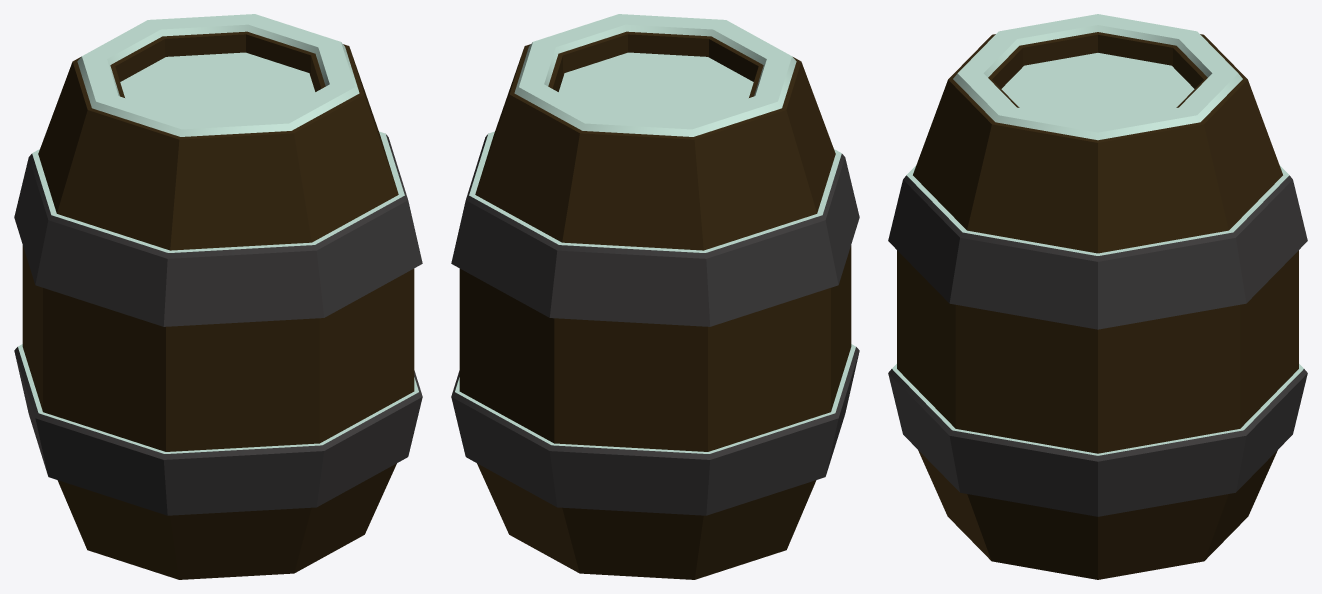
File: winter-barrel.glb
3 renders of one model, left to right at view 1: azimuth 30°, elevation 25°; view 2: azimuth 150°, elevation 25°; view 3: azimuth 270°, elevation 25°, orthographic.
Parts seen in each view (by area): view 1: WinterBarrel; view 2: WinterBarrel; view 3: WinterBarrel.
Boxes of the visible parts, box(x1,y1,x2,y2) form: WinterBarrel: box(14, 14, 422, 579); WinterBarrel: box(451, 14, 859, 579); WinterBarrel: box(888, 14, 1307, 579).
Size of the model in its own units: 139 by 161 by 139.
1 material, 1 textured.
